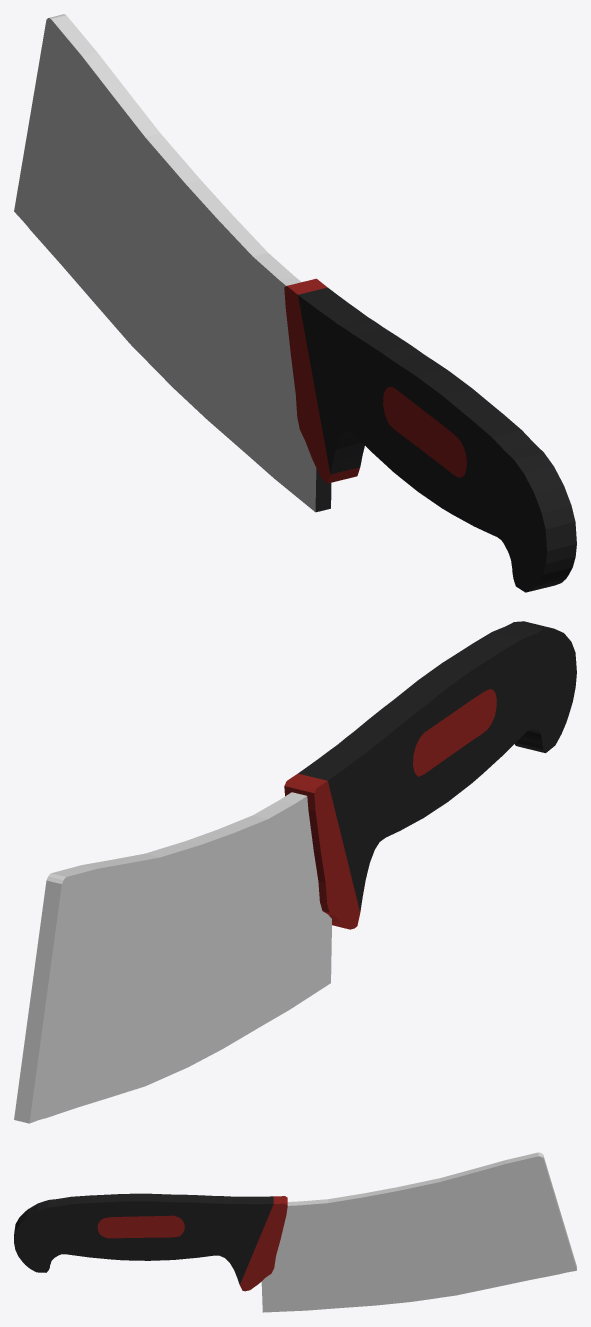
Rendered from Mincer.fbx.
3 renders of one model, top to bottom at view 1: azimuth 30°, elevation 25°; view 2: azimuth 150°, elevation 25°; view 3: azimuth 270°, elevation 25°, orthographic. The views are drawn at different scales.
Parts seen in each view (by area): view 1: Mincer; view 2: Mincer; view 3: Mincer.
Part boxes in pixels (box(x1,y1,x2,y2)): Mincer: box(14, 14, 576, 592); Mincer: box(14, 621, 576, 1123); Mincer: box(14, 1152, 576, 1312).
Bounding box in the file's own units: 30.17 × 289 × 944.
